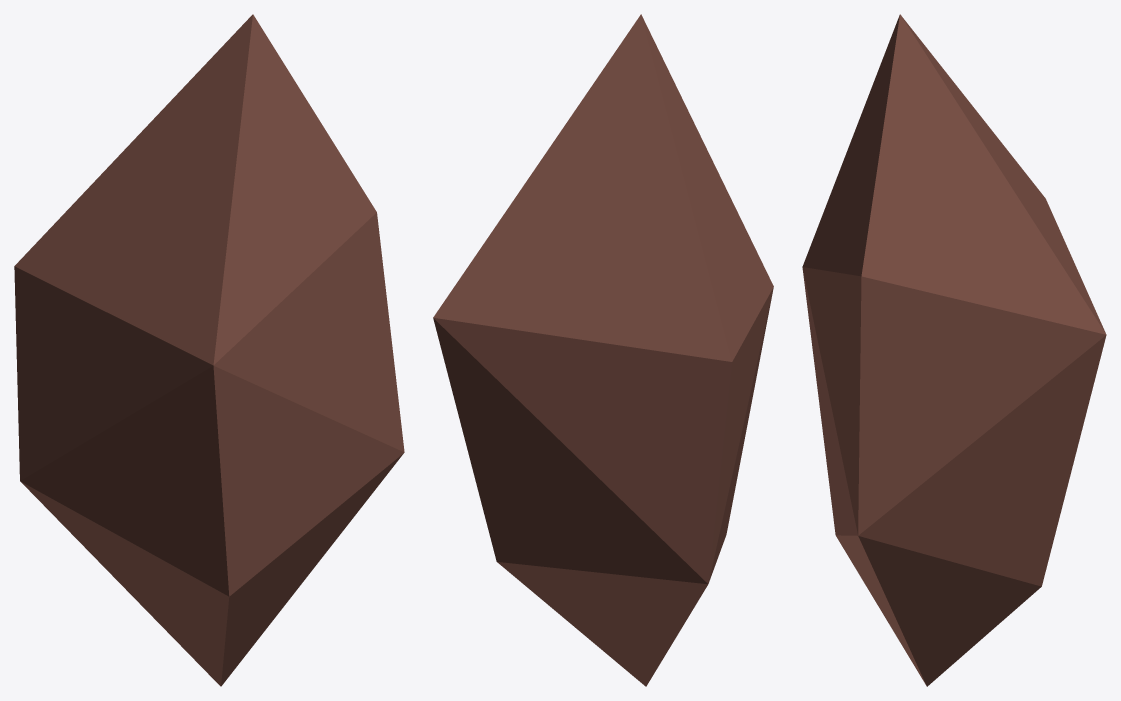
The model's file is Rock1.fbx.
3 views of the same model, side by side, from view 1: azimuth 30°, elevation 25°; view 2: azimuth 150°, elevation 25°; view 3: azimuth 270°, elevation 25° (orthographic). The views are drawn at different scales.
Visible parts, largest first — view 1: Rock1; view 2: Rock1; view 3: Rock1.
Part boxes in pixels (<box>): Rock1: <box>14,14,404,686</box>; Rock1: <box>433,14,773,686</box>; Rock1: <box>802,14,1106,686</box>.
Bounding box in the file's own units: 0.9497 × 2.07 × 0.8378.
